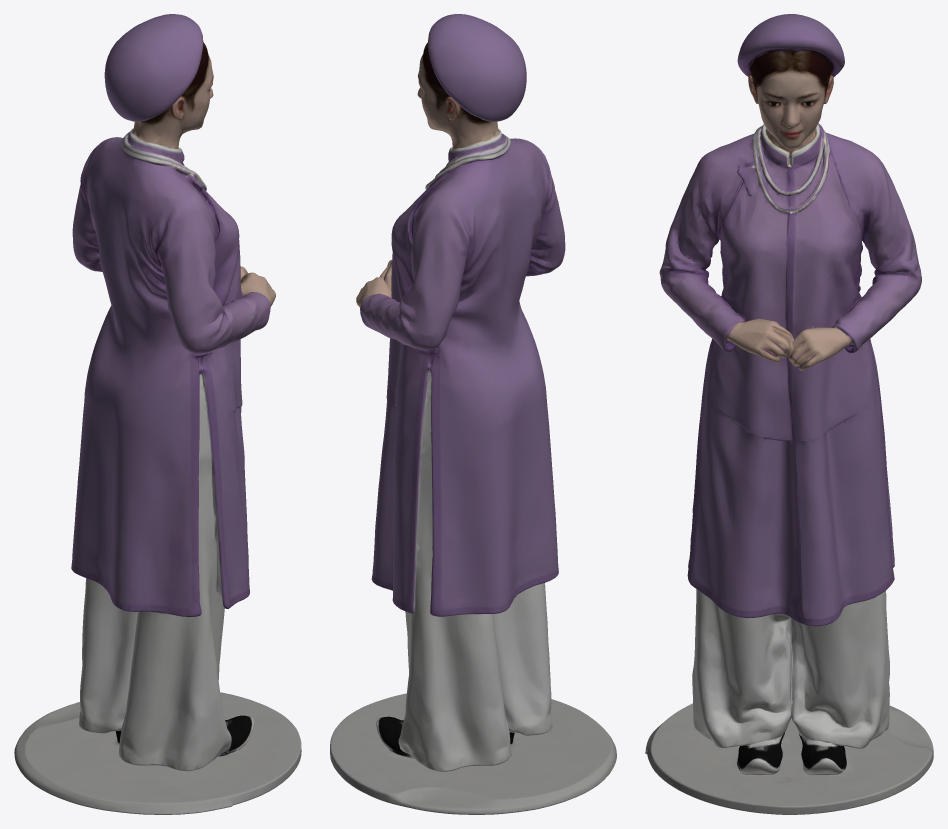
Rendered from aodai.glb.
3 views of the same model, side by side, from view 1: azimuth 30°, elevation 25°; view 2: azimuth 150°, elevation 25°; view 3: azimuth 270°, elevation 25° (orthographic).
Parts seen in each view (by area): view 1: tripo_node_99f710e0-77aa-45b0-aef3-f7750725b7dd; view 2: tripo_node_99f710e0-77aa-45b0-aef3-f7750725b7dd; view 3: tripo_node_99f710e0-77aa-45b0-aef3-f7750725b7dd.
Boxes of the visible parts, x1,y1,x2,y2 form: tripo_node_99f710e0-77aa-45b0-aef3-f7750725b7dd: (14,14,301,814); tripo_node_99f710e0-77aa-45b0-aef3-f7750725b7dd: (330,14,616,814); tripo_node_99f710e0-77aa-45b0-aef3-f7750725b7dd: (645,14,933,814).
Size of the model in its own units: 0.3585 by 1 by 0.3537.
Materials: 1 (1 with a texture image).
